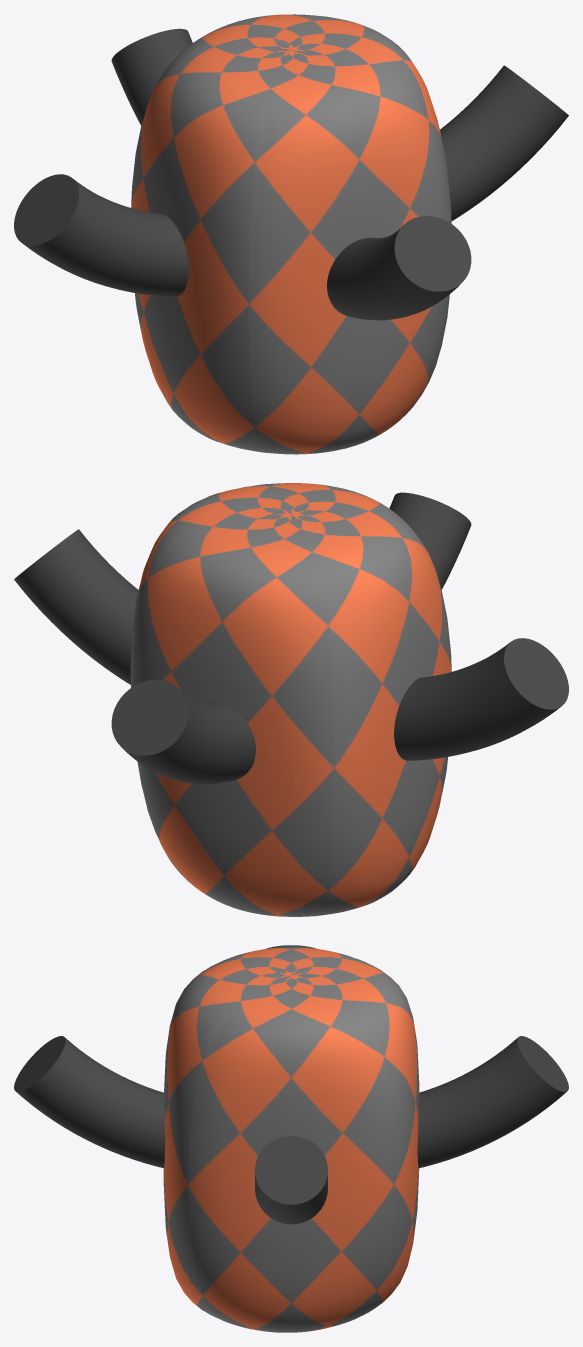
File: Body(Oblong)+Colour(More_Orange)+Pattern(Diamond)+Arm_Angle(Bent_Up).fbx
The picture shows the model from 3 angles, top to bottom: view 1: azimuth 30°, elevation 25°; view 2: azimuth 150°, elevation 25°; view 3: azimuth 270°, elevation 25°; orthographic projection. The views are drawn at different scales.
Parts seen in each view (by area): view 1: Body(Oblong)+Colour(More_Orange)+Pattern(Diamond)+Arm_Angle( (×5); view 2: Body(Oblong)+Colour(More_Orange)+Pattern(Diamond)+Arm_Angle( (×5); view 3: Body(Oblong)+Colour(More_Orange)+Pattern(Diamond)+Arm_Angle( (×4).
Part boxes in pixels (x1,y1,x2,y2): Body(Oblong)+Colour(More_Orange)+Pattern(Diamond)+Arm_Angle( (×5): (14, 14, 568, 454); Body(Oblong)+Colour(More_Orange)+Pattern(Diamond)+Arm_Angle( (×5): (14, 483, 568, 916); Body(Oblong)+Colour(More_Orange)+Pattern(Diamond)+Arm_Angle( (×4): (14, 947, 568, 1332).
Bounding box in the file's own units: 60.67 × 40 × 60.67.
Materials: 2 (2 with a texture image).
